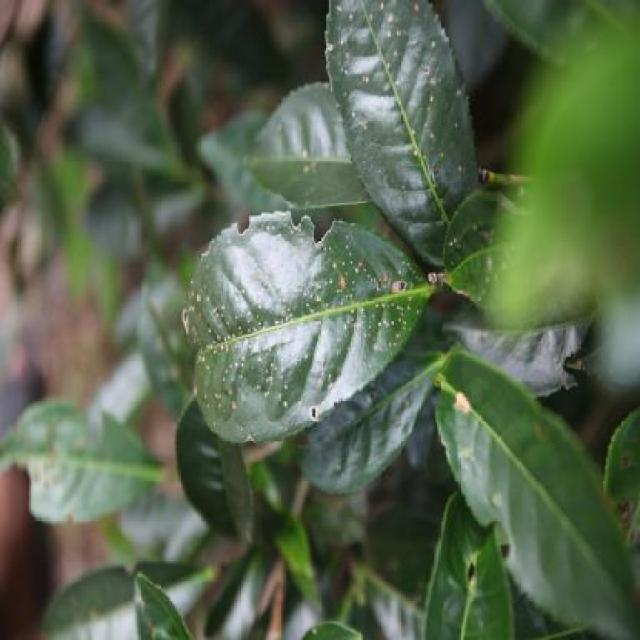Leaf rust of tea: (199, 212, 466, 457), (361, 0, 515, 295), (480, 216, 612, 346)
